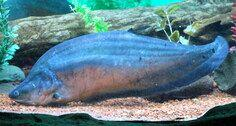Knifefish: (8, 29, 230, 107)
